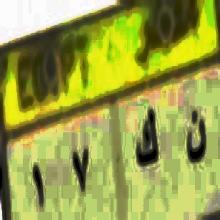1: (32, 160, 47, 216)
7: (70, 140, 91, 196)
kaaf: (134, 101, 159, 175)
noon: (184, 103, 208, 173)
